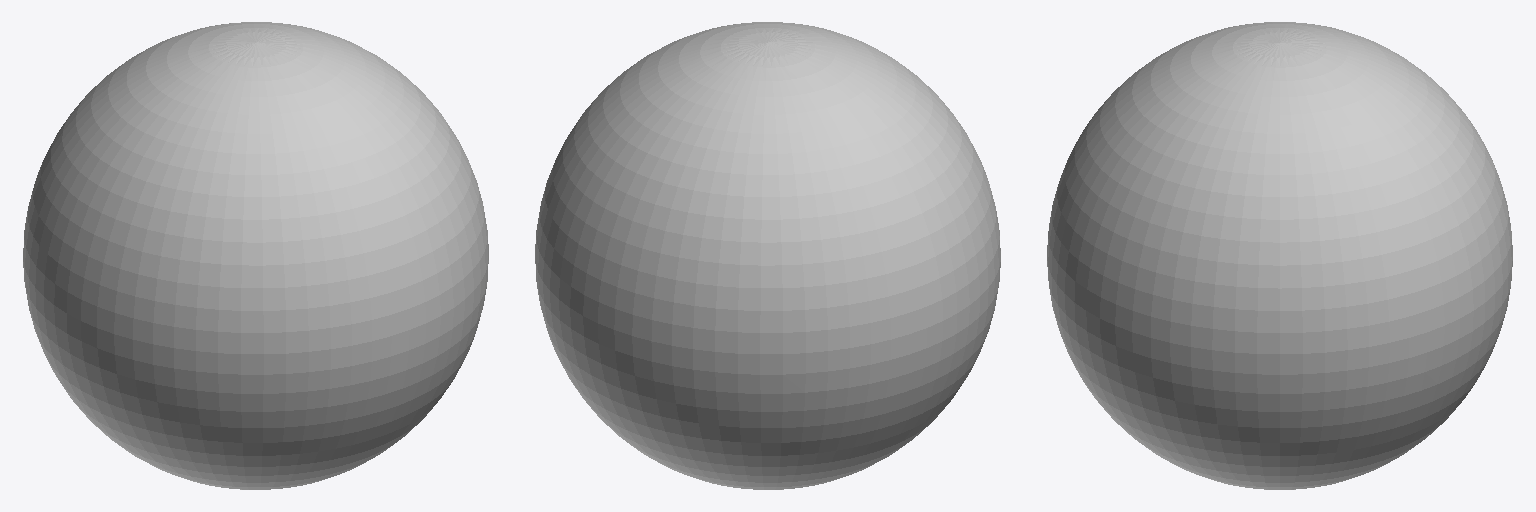
The model's file is neptune.obj.
3 renders of one model, left to right at view 1: azimuth 30°, elevation 25°; view 2: azimuth 150°, elevation 25°; view 3: azimuth 270°, elevation 25°, orthographic.
Parts seen in each view (by area): view 1: Neptune; view 2: Neptune; view 3: Neptune.
Part boxes in pixels (x1,y1,x2,y2): Neptune: (23,22,488,489); Neptune: (535,22,1000,489); Neptune: (1047,22,1512,489).
Size of the model in its own units: 0.5811 by 0.5871 by 0.5811.